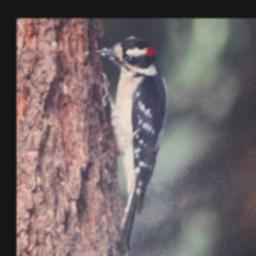Woodpecker: (94, 32, 170, 251)
